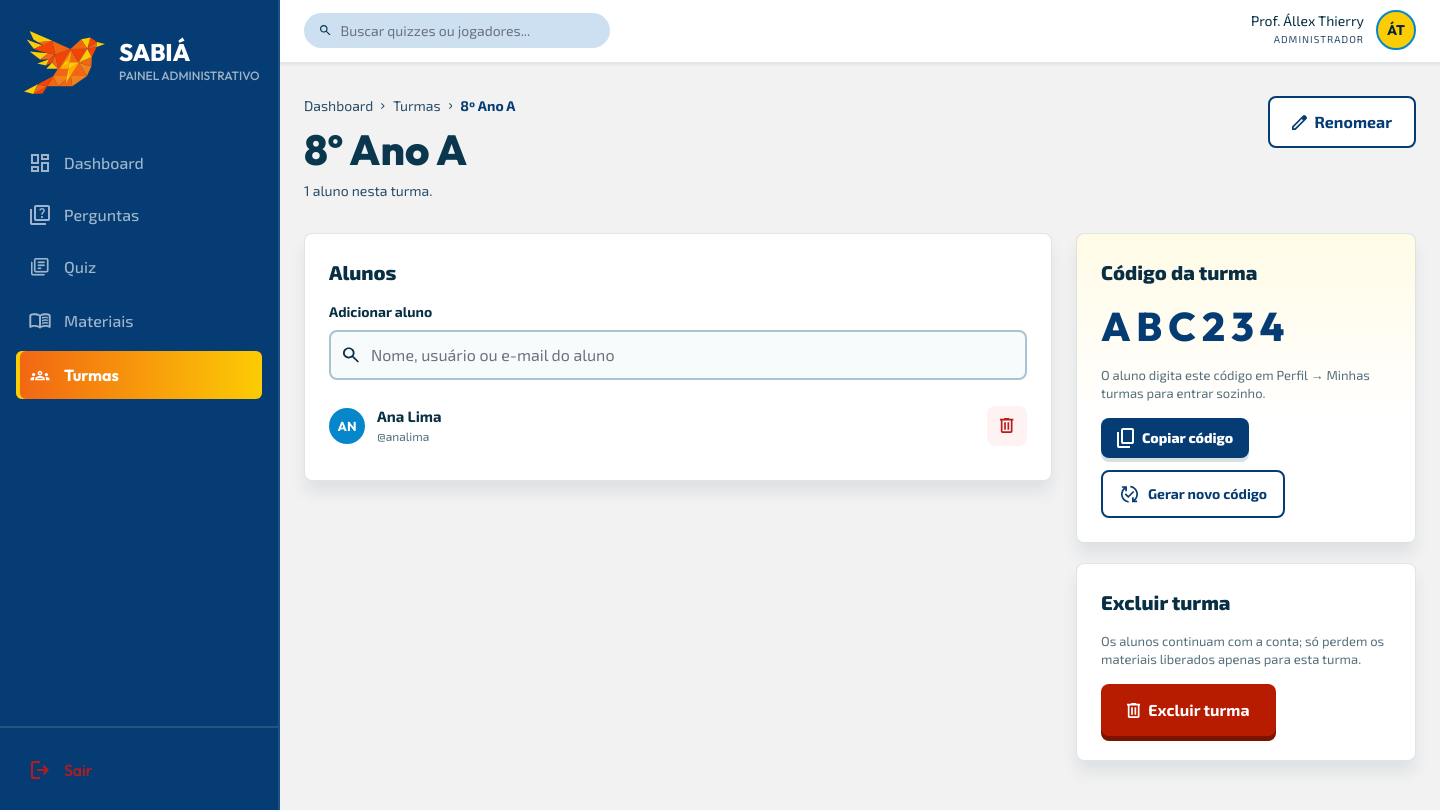
Scenario: Turmas › gera um novo código
Click the button "Gerar novo código" at [1193, 494], box [1101,470,1285,518]
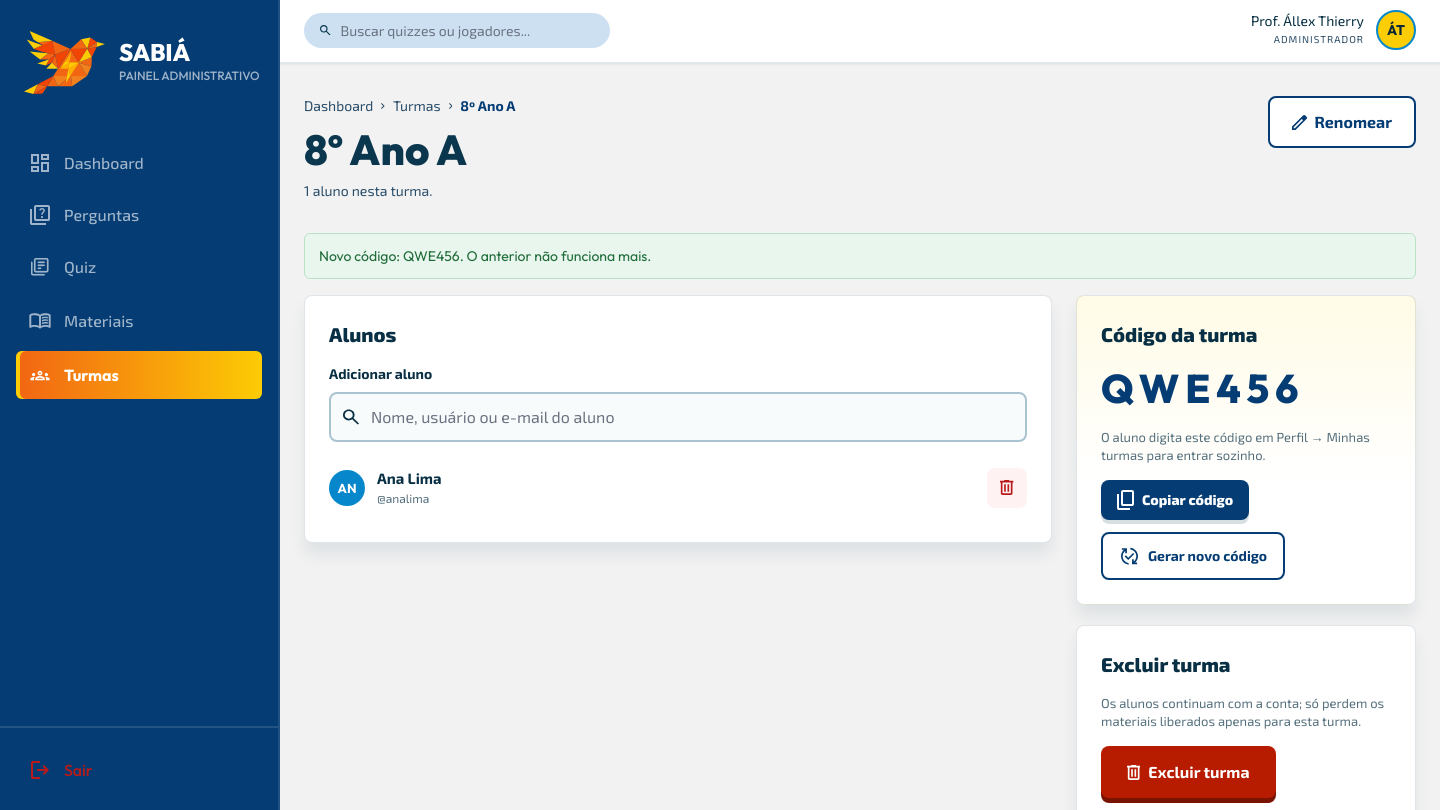
Expected: the text "Novo código: QWE456. O anterior não funciona mais." is shown, [304,233,1416,279]
